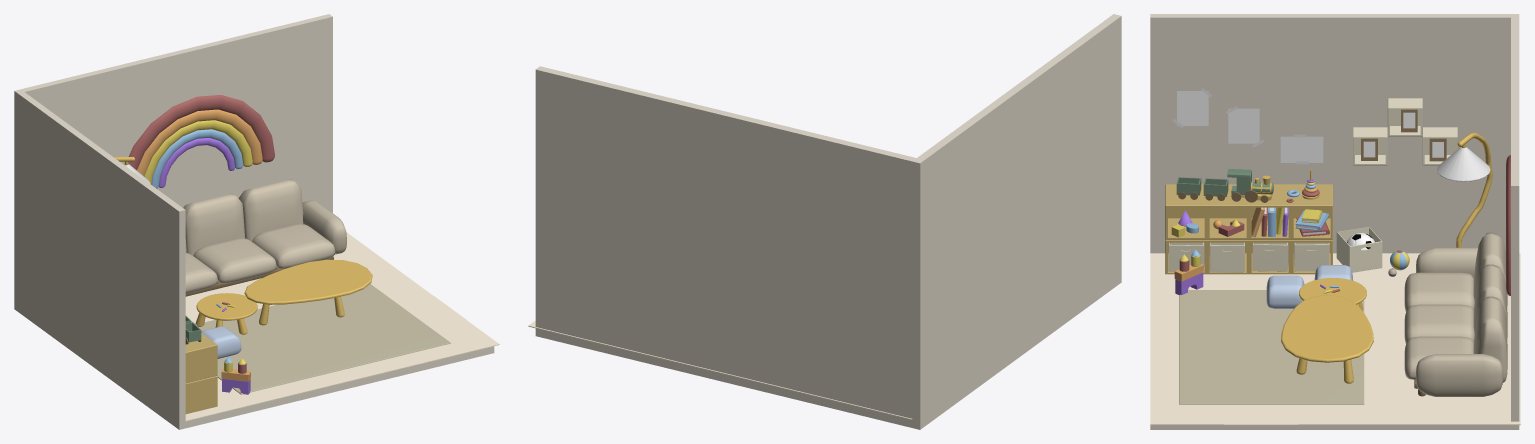
The model's file is PlayroomScene.fbx.
3 renders of one model, left to right at view 1: azimuth 30°, elevation 25°; view 2: azimuth 150°, elevation 25°; view 3: azimuth 270°, elevation 25°, orthographic. The views are drawn at different scales.
Parts seen in each view (by area): view 1: Wall_and_Floor, Carpet, bigTable, rainbow1, back_L, back_M, cushion_M, cushion_L, rainbow2, rainbow3, armrest, smallTable (+6 smaller); view 2: Wall_and_Floor; view 3: Wall_and_Floor, Carpet, shelfup, armrest, bigTable, Floor_wooden24 (×5), Floor_wooden23 (×5), Floor_wooden22 (×5), cushion_R, cushion_M, back_L, shelfdown (+31 smaller).
Boxes of the visible parts, bbox=[...] form: Wall_and_Floor: bbox=[14, 14, 494, 429]; Carpet: bbox=[198, 284, 450, 394]; bigTable: bbox=[244, 259, 372, 304]; rainbow1: bbox=[128, 95, 274, 170]; back_L: bbox=[238, 179, 303, 241]; back_M: bbox=[183, 193, 245, 255]; cushion_M: bbox=[193, 238, 276, 283]; cushion_L: bbox=[252, 224, 335, 268]; rainbow2: bbox=[137, 109, 262, 176]; rainbow3: bbox=[144, 120, 252, 184]; armrest: bbox=[302, 200, 346, 254]; smallTable: bbox=[196, 293, 257, 320]; Wall_and_Floor: bbox=[535, 14, 1121, 429]; Wall_and_Floor: bbox=[1150, 14, 1519, 429]; Carpet: bbox=[1179, 290, 1364, 404]; shelfup: bbox=[1165, 184, 1332, 239]; armrest: bbox=[1416, 247, 1503, 396]; bigTable: bbox=[1281, 295, 1373, 362]; Floor_wooden24 (×5): bbox=[1150, 417, 1520, 425]; Floor_wooden23 (×5): bbox=[1150, 411, 1520, 417]; Floor_wooden22 (×5): bbox=[1150, 404, 1520, 411]; cushion_R: bbox=[1404, 272, 1474, 311]; cushion_M: bbox=[1404, 304, 1474, 343]; back_L: bbox=[1473, 296, 1507, 382]; shelfdown: bbox=[1165, 240, 1332, 274].
Bounding box in the file's own units: 49.28 × 32.06 × 44.05.
